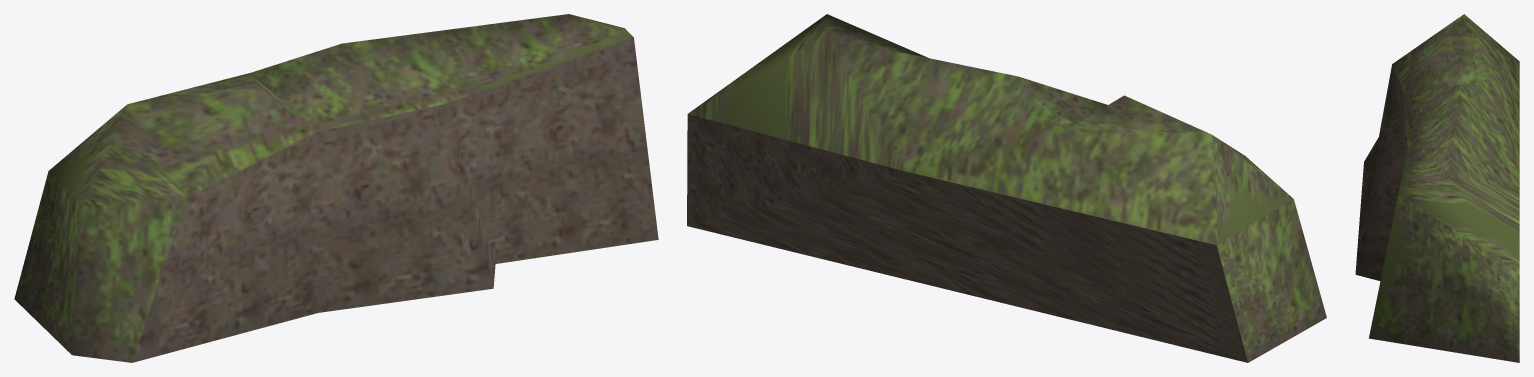
The model's file is thm_nboo_thed_imprv_seawall_rocks_s01_l4.fbx.
3 views of the same model, side by side, from view 1: azimuth 30°, elevation 25°; view 2: azimuth 150°, elevation 25°; view 3: azimuth 270°, elevation 25° (orthographic). The views are drawn at different scales.
Parts seen in each view (by area): view 1: mesh_node; view 2: mesh_node; view 3: mesh_node.
Part boxes in pixels (box(x1,y1,x2,y2)): mesh_node: box(14, 14, 658, 362); mesh_node: box(687, 14, 1326, 362); mesh_node: box(1355, 14, 1519, 362).
Bounding box in the file's own units: 27.23 × 8.88 × 8.23.
